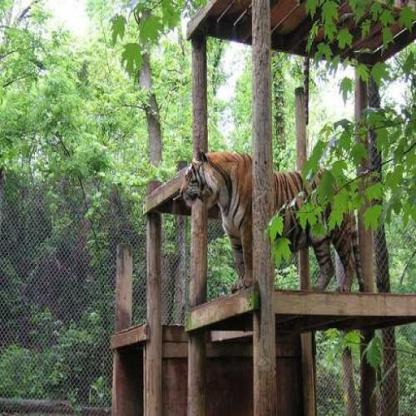Tiger: (173, 138, 367, 279)
